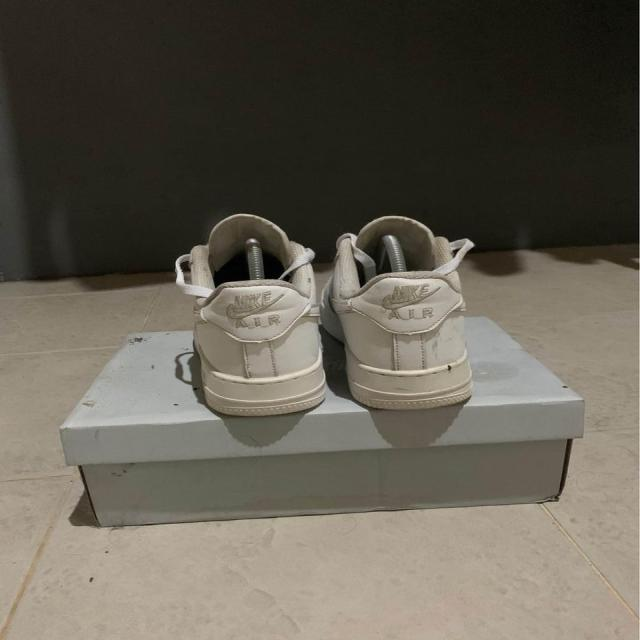nike fake air force: (322, 214, 475, 412), (189, 213, 329, 417)
